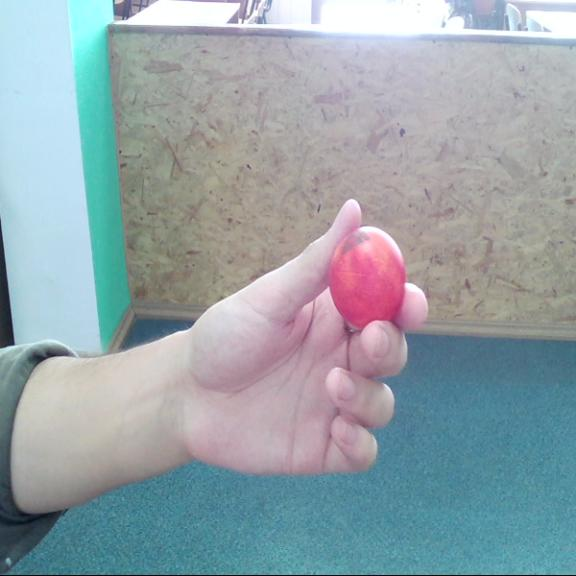ball: (330, 224, 404, 330)
